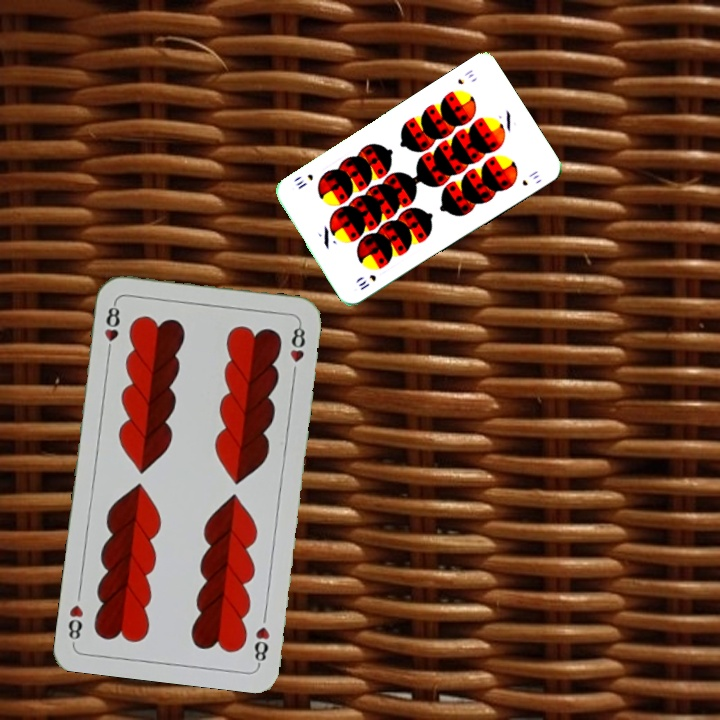H8: (100, 298, 123, 358), (250, 622, 272, 667)
S10: (354, 270, 379, 293), (453, 65, 477, 87)
